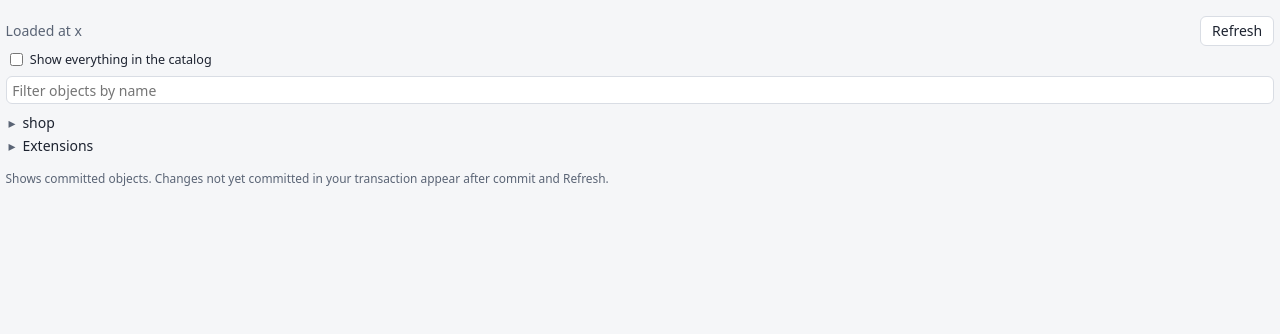
object explorer (admin Phase 3) › filters the objects of an opened schema by name
Step 1. Click the button "shop" → click(32, 122), box [6,111,58,133]
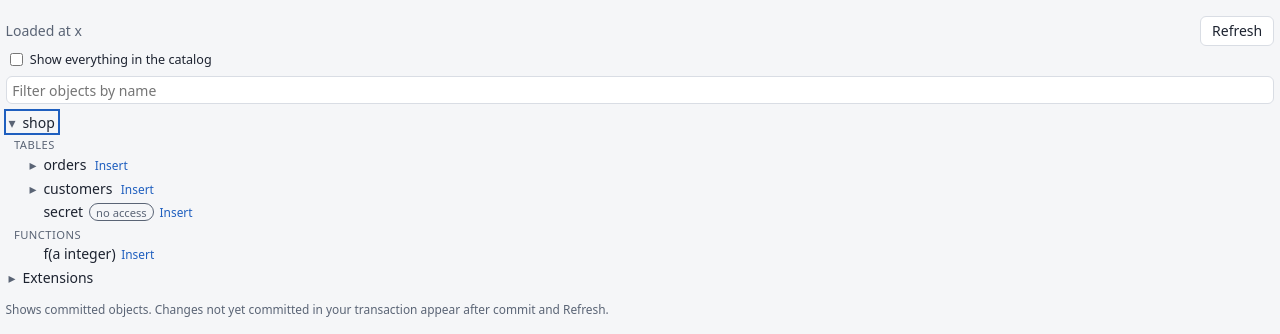
expect the button "orders" is shown: met, box [27,154,89,176]
Step 2. Type "CUST" into the search field labelled "Filter objects" → (640, 90), box [6,76,1274,104]
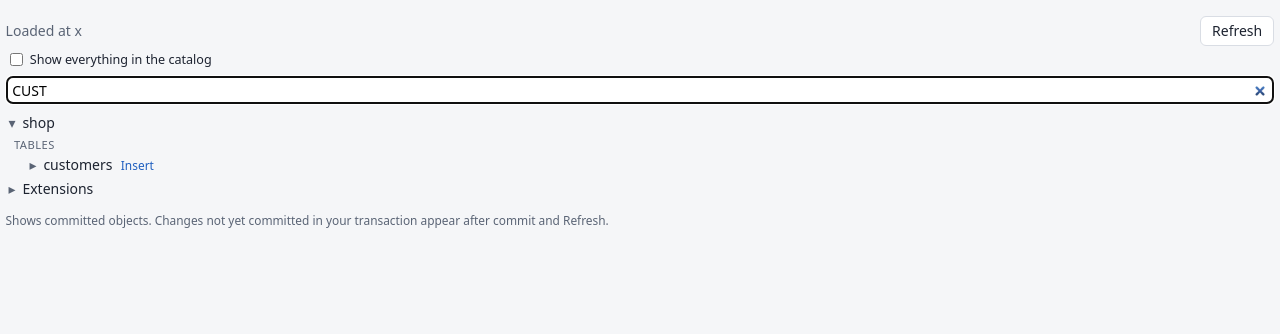
expect the button "customers" is shown: met, box [27,154,115,176]
expect the button "orders" is gone: met
Step 3. Replace the text in the search field named "Filter objects" with "nothing" → (640, 90), box [6,76,1274,104]
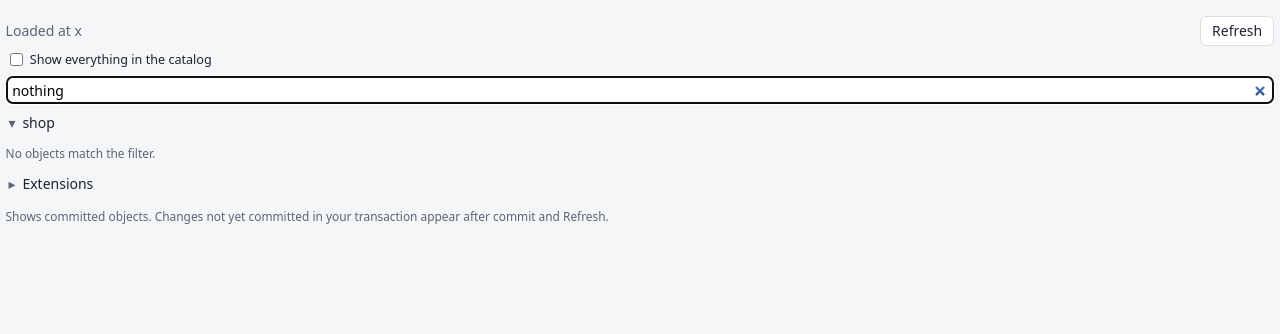
expect the text "No objects match the filter." is shown: met, box [6,145,155,161]
